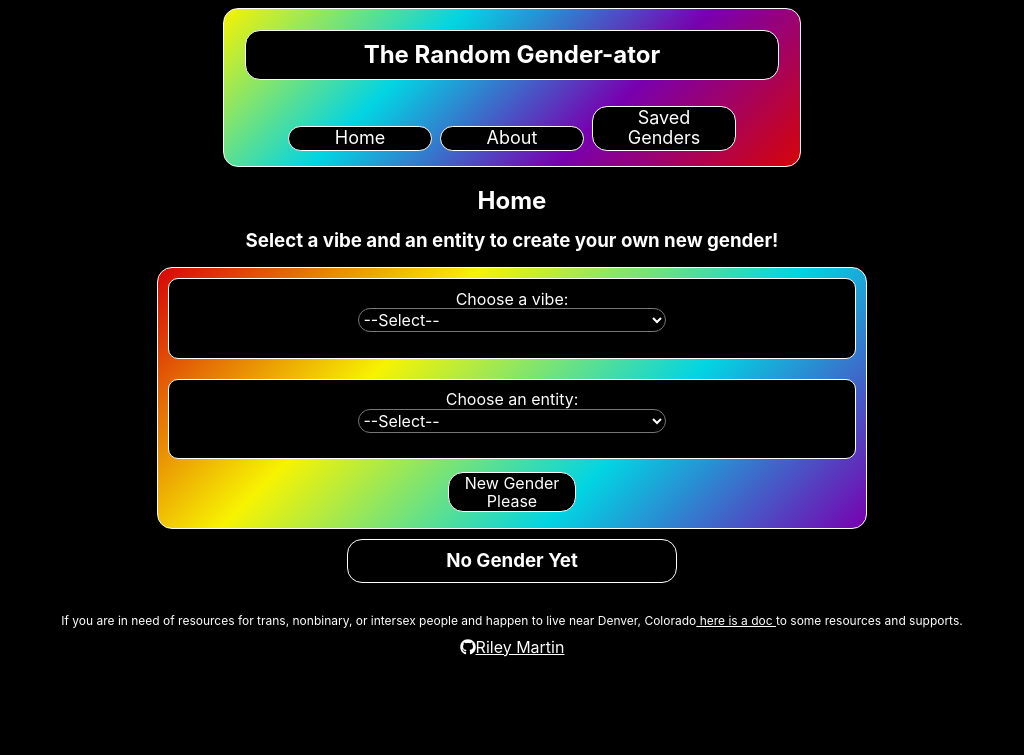
it: Card › Should display a random new gender when the New Gender Please button is clicked on home page
Select "Sparkle" in the dropdown named "vibe": [512, 320] box [358,308,665,332]
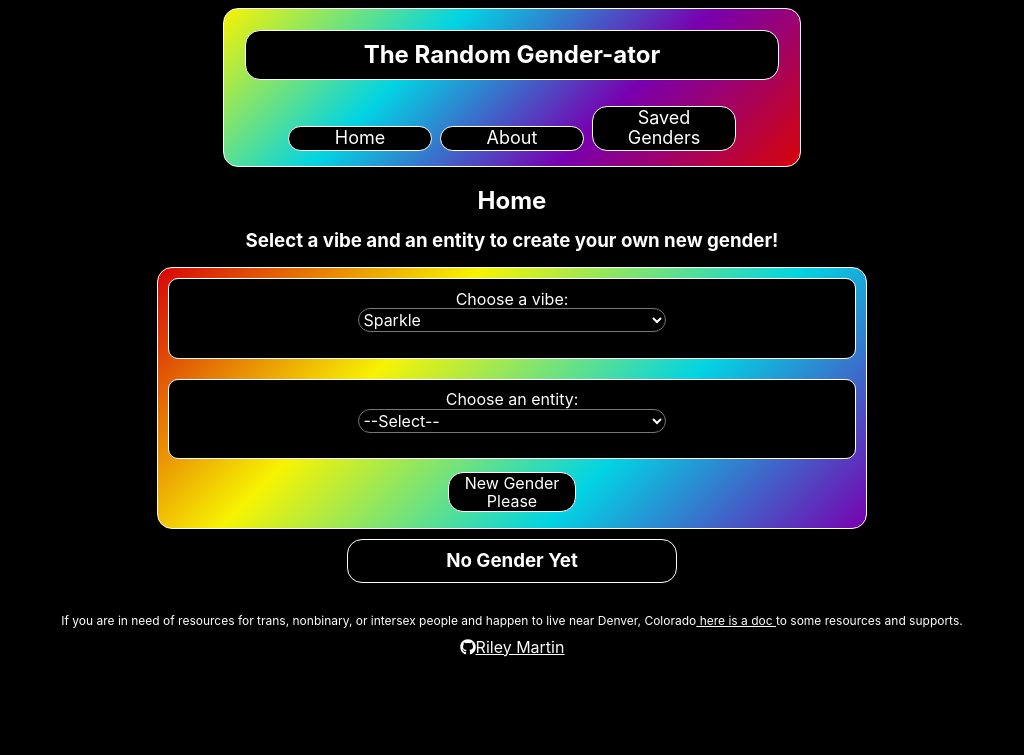
Select "Extraterrestrial" in the dropdown named "entity": [512, 421] box [358,409,665,433]
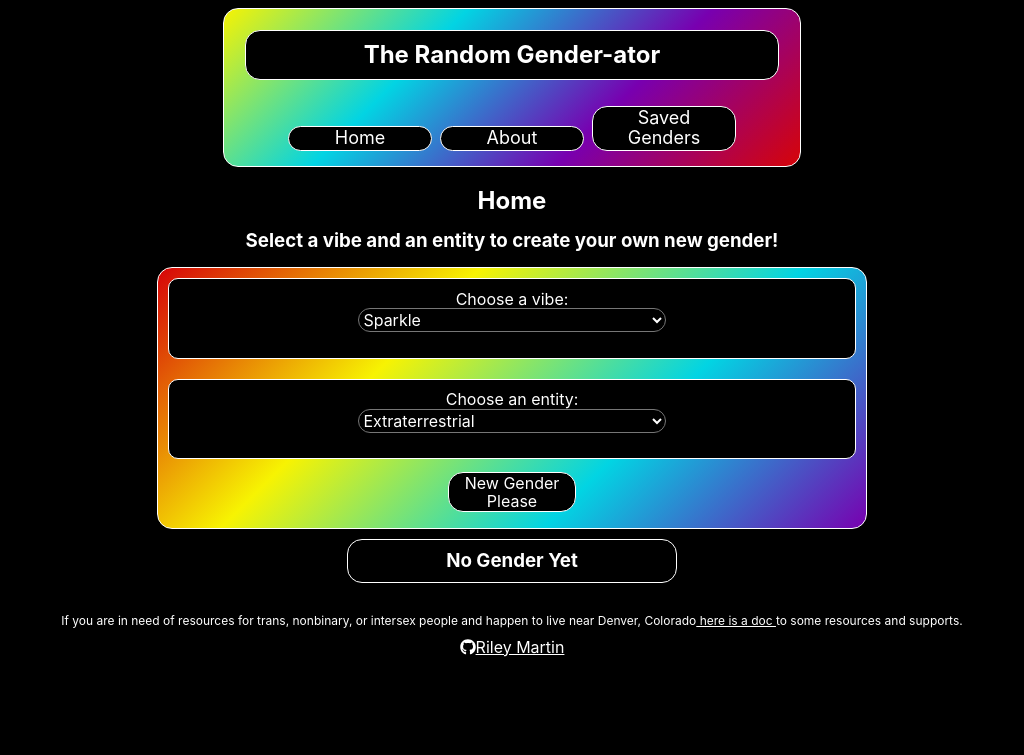
Click the button with class "new-gender-btn": [512, 493] box [448,472,576,513]
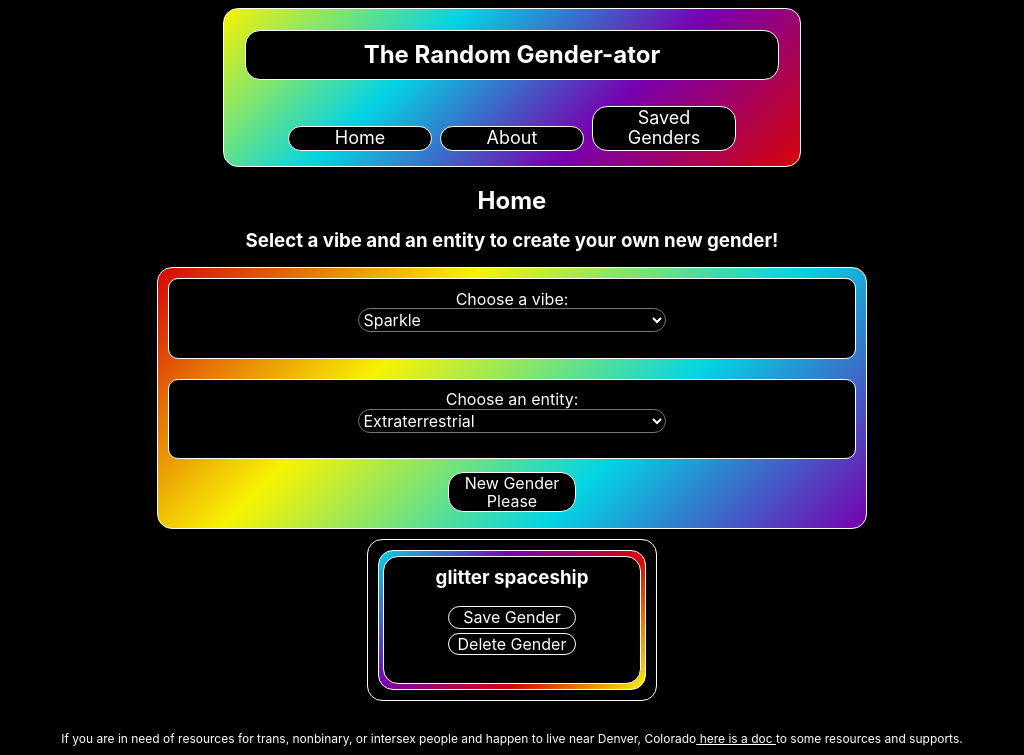
Check: the heading with class "new-gender" reads "glitter spaceship", box [436,568,589,590]
